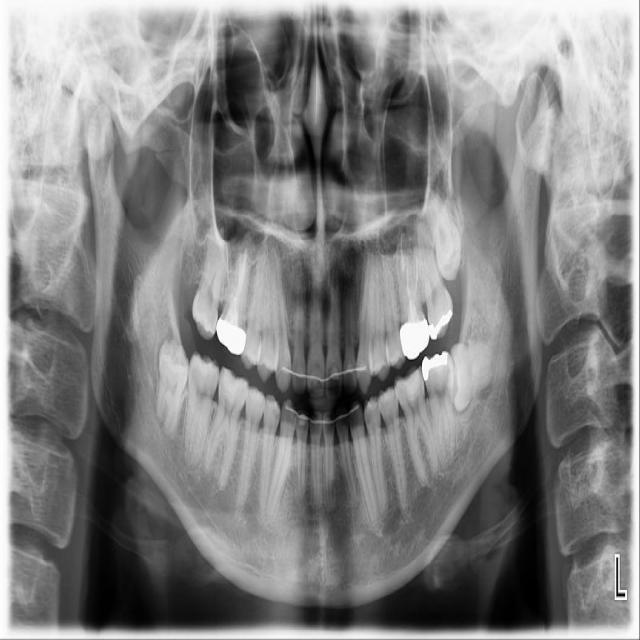52: (212, 295, 253, 359), (425, 285, 456, 343), (400, 305, 431, 359), (420, 350, 454, 393)
73: (394, 227, 426, 315), (221, 231, 252, 304), (592, 532, 596, 536)
BioHorizons Implant: (405, 210, 462, 346)
BioLife Implant: (417, 179, 472, 288)
Biomet 3i Implant: (447, 340, 498, 413)
Blue Sky Bio Implant: (420, 350, 456, 474)
Caries: (186, 221, 235, 343)
Implant: (182, 352, 221, 471)
Keystone Dental Implant: (155, 338, 191, 438)
